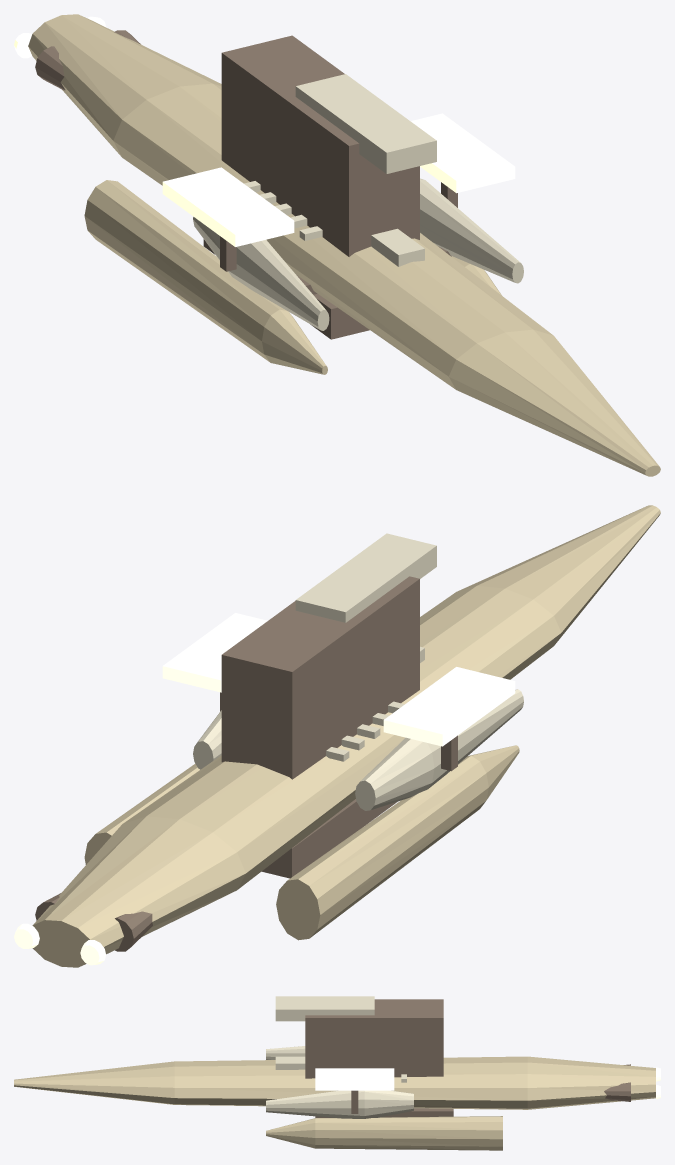
3 renders of one model, top to bottom at view 1: azimuth 30°, elevation 25°; view 2: azimuth 150°, elevation 25°; view 3: azimuth 270°, elevation 25°, orthographic. The views are drawn at different scales.
Size of the model in its own units: 3.27 by 2.5 by 12.05.
